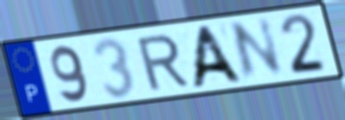2: (278, 12, 329, 76)
3: (92, 32, 139, 101)
9: (49, 43, 90, 104)
A: (188, 22, 247, 90)
N: (228, 15, 286, 84)
R: (133, 31, 191, 93)
